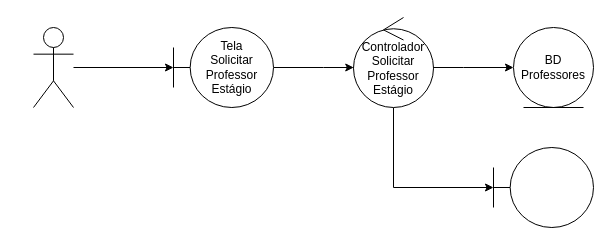
The diagram is 611 pixels wide and 245 high, and some of its shapes have lost their labels. Here are the shapes that lost their labels. From the top down, the centre of each, then its label:
At point (53, 67): "Aluno Monitor Autor de TCC".
At point (543, 187): "Tela Confirmação".
